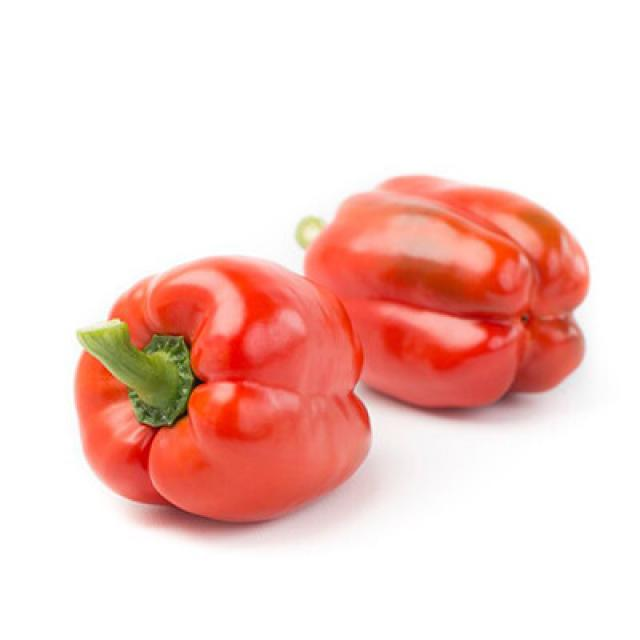pepper: (72, 254, 370, 522), (293, 175, 588, 409)
